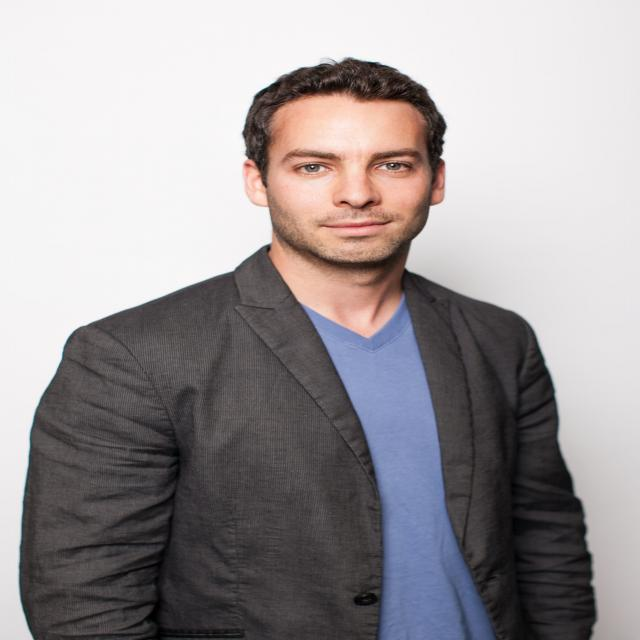nothing: (232, 49, 472, 147)
